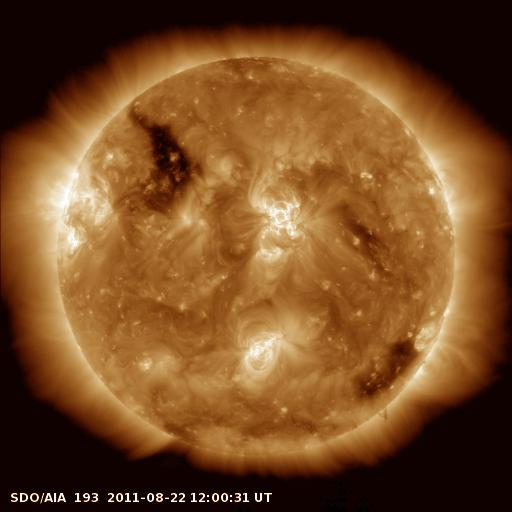coronal_hole: (128, 108, 203, 210), (355, 340, 422, 400)
